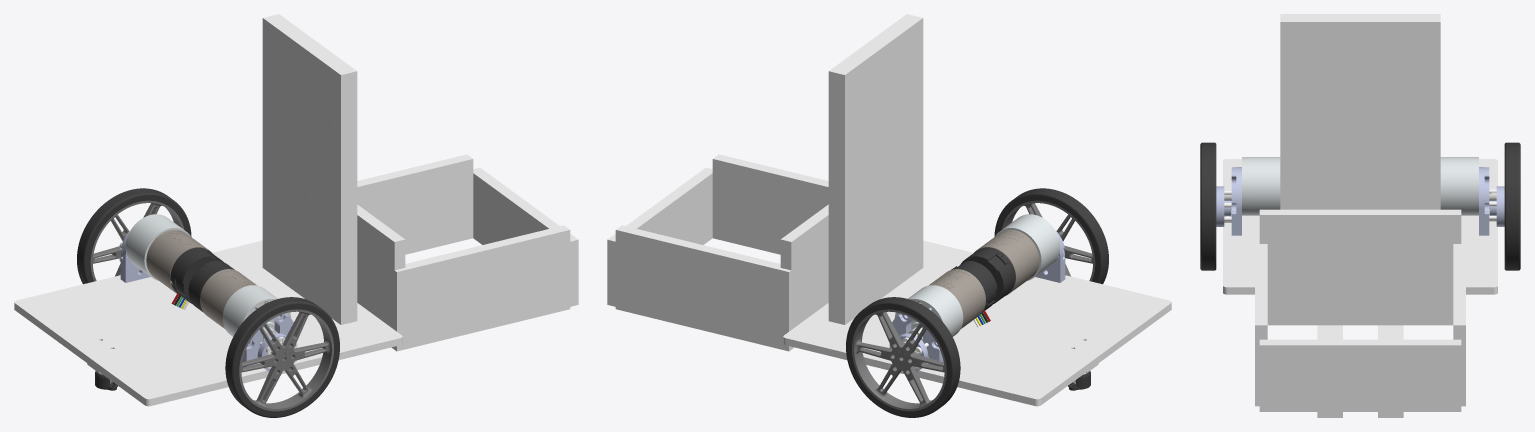
File: assembly.glb
3 views of the same model, side by side, from view 1: azimuth 30°, elevation 25°; view 2: azimuth 150°, elevation 25°; view 3: azimuth 270°, elevation 25° (orthographic). The views are drawn at different scales.
Parts seen in each view (by area): view 1: Open_CASCADE_STEP_translator_79_11, Open_CASCADE_STEP_translator_79_2, Open_CASCADE_STEP_translator_79_9, pololu-wheel-80ձ0mm-black (×2), Open_CASCADE_STEP_translator_79_8, Open_CASCADE_STEP_translator_79_10, Open_CASCADE_STEP_translator_79_7, 37d-gearmotor-50-70-encoder_82fe6c (×2), 37d-gearmotor-50-70-encoder_c15b93 (×2), 37d-gearmotor-50-70-encoder_48b346 (×2), bkt07-option-1 (×2); view 2: Open_CASCADE_STEP_translator_79_11, Open_CASCADE_STEP_translator_79_2, Open_CASCADE_STEP_translator_79_8, pololu-wheel-80ձ0mm-black (×2), Open_CASCADE_STEP_translator_79_9, Open_CASCADE_STEP_translator_79_10, Open_CASCADE_STEP_translator_79_7, 37d-gearmotor-50-70-encoder_82fe6c (×2), 37d-gearmotor-50-70-encoder_c15b93 (×2), 37d-gearmotor-50-70-encoder_48b346 (×2), bkt07-option-1 (×2); view 3: Open_CASCADE_STEP_translator_79_11, Open_CASCADE_STEP_translator_79_7, Open_CASCADE_STEP_translator_79_10, Open_CASCADE_STEP_translator_79_2, pololu-wheel-80ձ0mm-black (×2), 37d-gearmotor-50-70-encoder_c15b93 (×2), Open_CASCADE_STEP_translator_79_8, Open_CASCADE_STEP_translator_79_9, bkt07-option-1 (×2), pololu-universal-aluminum-mounting-hub-for-6mm-shaft-4-40-ho (×2), Open_CASCADE_STEP_translator_79_5, Open_CASCADE_STEP_translator_79_6.
Boxes of the visible parts, <box> form: Open_CASCADE_STEP_translator_79_11: <box>262,14,357,324</box>; Open_CASCADE_STEP_translator_79_2: <box>14,240,402,406</box>; Open_CASCADE_STEP_translator_79_9: <box>390,225,570,351</box>; pololu-wheel-80ձ0mm-black (×2): <box>77,188,339,417</box>; Open_CASCADE_STEP_translator_79_8: <box>357,154,473,254</box>; Open_CASCADE_STEP_translator_79_10: <box>473,167,578,306</box>; Open_CASCADE_STEP_translator_79_7: <box>357,204,405,347</box>; 37d-gearmotor-50-70-encoder_82fe6c (×2): <box>146,230,256,329</box>; 37d-gearmotor-50-70-encoder_c15b93 (×2): <box>125,214,291,341</box>; 37d-gearmotor-50-70-encoder_48b346 (×2): <box>170,247,234,312</box>; bkt07-option-1 (×2): <box>120,231,293,367</box>; Open_CASCADE_STEP_translator_79_11: <box>828,14,923,324</box>; Open_CASCADE_STEP_translator_79_2: <box>783,240,1171,406</box>; Open_CASCADE_STEP_translator_79_8: <box>615,225,795,351</box>; pololu-wheel-80ձ0mm-black (×2): <box>846,188,1108,417</box>; Open_CASCADE_STEP_translator_79_9: <box>712,154,828,254</box>; Open_CASCADE_STEP_translator_79_10: <box>607,167,712,306</box>; Open_CASCADE_STEP_translator_79_7: <box>780,204,828,349</box>; 37d-gearmotor-50-70-encoder_82fe6c (×2): <box>929,230,1039,329</box>; 37d-gearmotor-50-70-encoder_c15b93 (×2): <box>894,214,1060,341</box>; 37d-gearmotor-50-70-encoder_48b346 (×2): <box>951,247,1015,310</box>; bkt07-option-1 (×2): <box>889,231,1065,367</box>; Open_CASCADE_STEP_translator_79_11: <box>1280,14,1440,209</box>; Open_CASCADE_STEP_translator_79_7: <box>1259,209,1461,325</box>; Open_CASCADE_STEP_translator_79_10: <box>1259,339,1461,411</box>; Open_CASCADE_STEP_translator_79_2: <box>1223,159,1497,294</box>; pololu-wheel-80ձ0mm-black (×2): <box>1200,142,1520,270</box>; 37d-gearmotor-50-70-encoder_c15b93 (×2): <box>1242,157,1478,215</box>; Open_CASCADE_STEP_translator_79_8: <box>1453,238,1465,406</box>; Open_CASCADE_STEP_translator_79_9: <box>1255,238,1267,406</box>; bkt07-option-1 (×2): <box>1231,167,1489,235</box>; pololu-universal-aluminum-mounting-hub-for-6mm-shaft-4-40-ho (×2): <box>1216,186,1504,226</box>; Open_CASCADE_STEP_translator_79_5: <box>1378,325,1403,417</box>; Open_CASCADE_STEP_translator_79_6: <box>1317,325,1342,417</box>.
Size of the model in its own units: 0.332 by 0.205 by 0.2.
